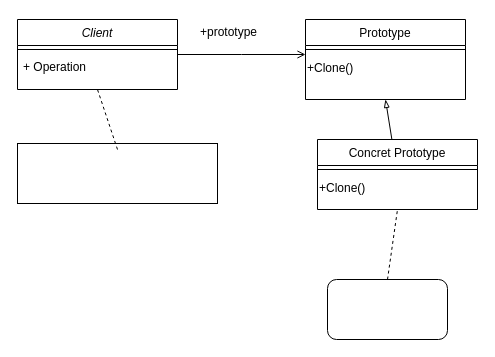
The diagram is 495 pixels wide and 357 high, and some of its shapes have lost their labels. The centre of each missing label's shape, as x and y in pixels:
p=prototype->Clone(): (x=117, y=173)
return copy of self: (x=387, y=309)
